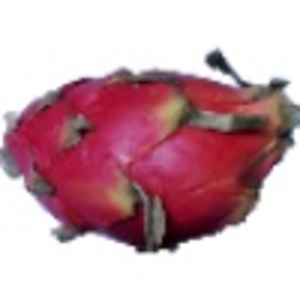pitaia: (1, 48, 300, 254)
